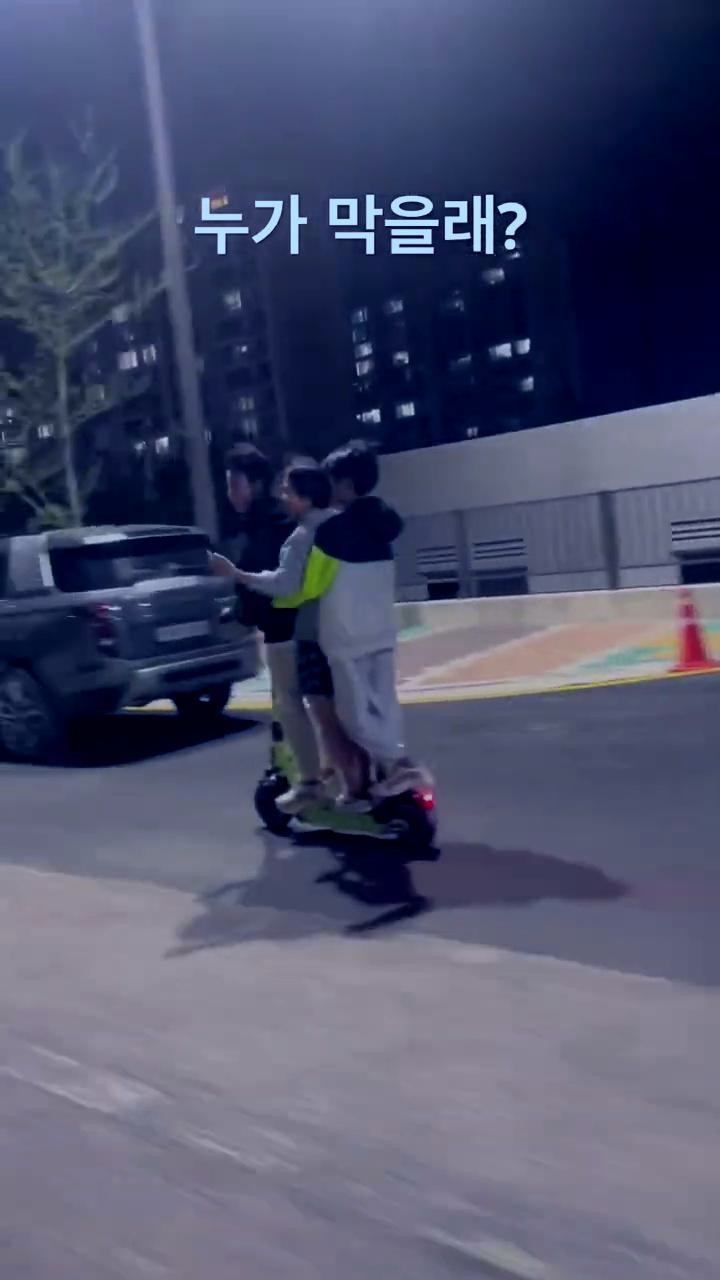multiple: (206, 438, 452, 865)
